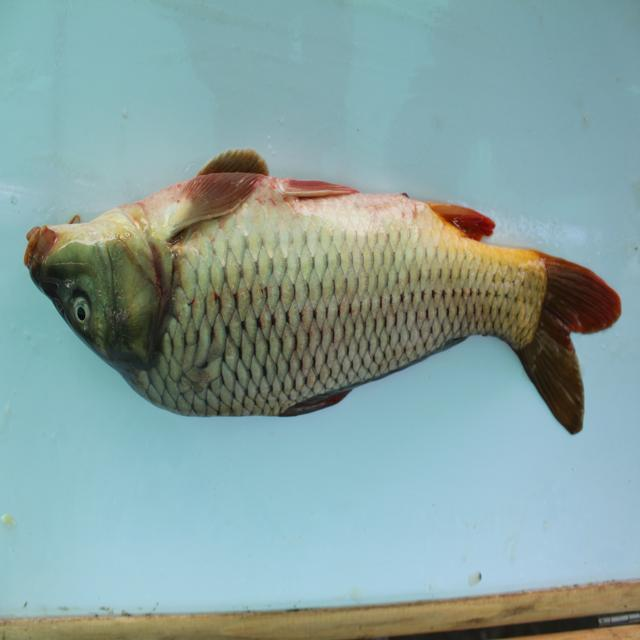CommonCarp: (16, 145, 614, 451)
